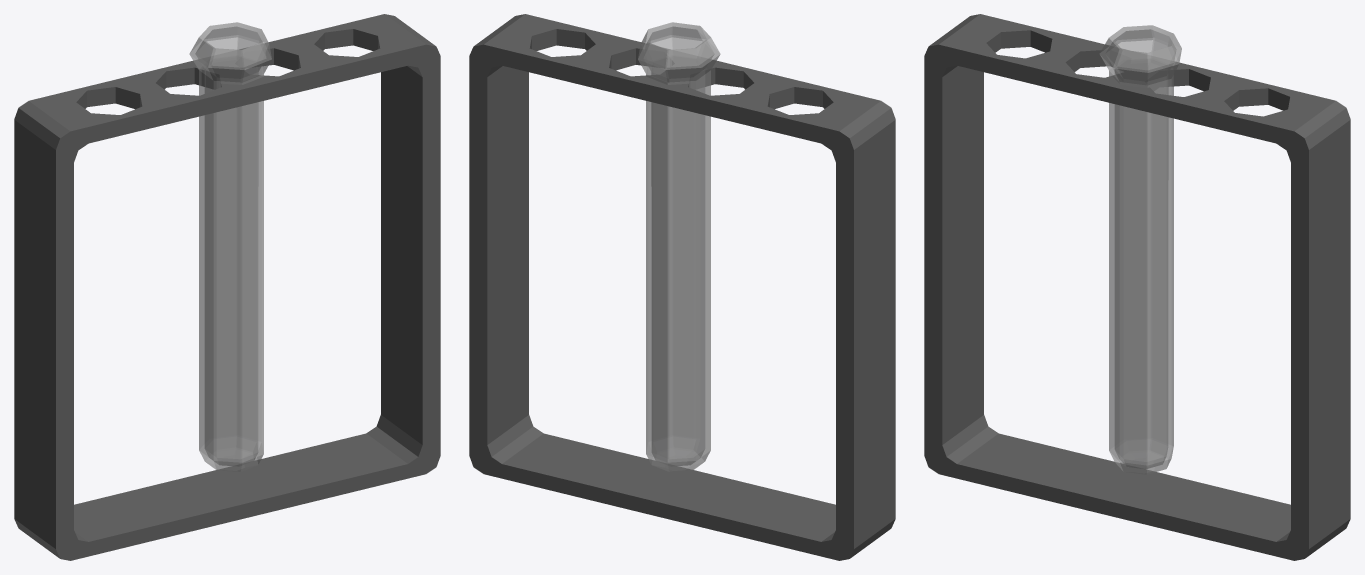
File: Misc Lab Assets.fbx
3 views of the same model, side by side, from view 1: azimuth 30°, elevation 25°; view 2: azimuth 150°, elevation 25°; view 3: azimuth 330°, elevation 25° (orthographic).
Parts seen in each view (by area): view 1: Vial_Stand, Vial; view 2: Vial_Stand, Vial; view 3: Vial_Stand, Vial.
Boxes of the visible parts, x1,y1,x2,y2 form: Vial_Stand: (14, 14, 440, 560); Vial: (189, 22, 271, 471); Vial_Stand: (469, 14, 895, 560); Vial: (638, 22, 720, 471); Vial_Stand: (924, 14, 1350, 560); Vial: (1099, 25, 1181, 474).
Size of the model in its own units: 24.26 by 28 by 4.57.
Materials: 2 (1 with a texture image).
